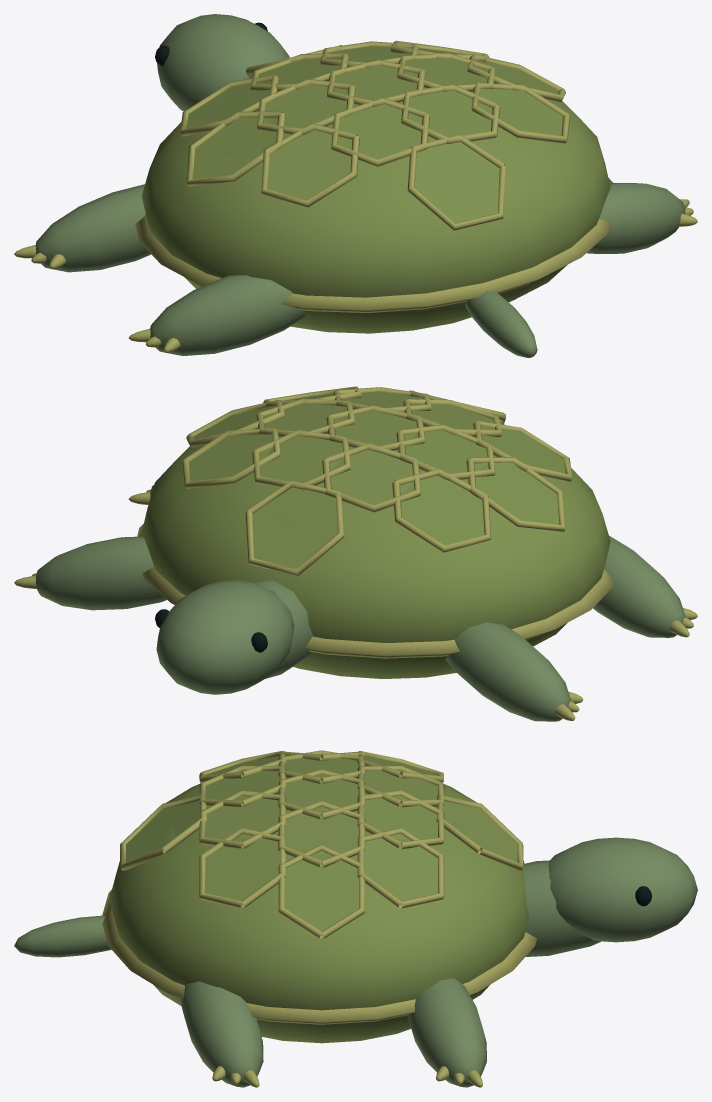
Rendered from turtle-high.glb.
The picture shows the model from 3 angles, top to bottom: view 1: azimuth 30°, elevation 25°; view 2: azimuth 150°, elevation 25°; view 3: azimuth 270°, elevation 25°; orthographic projection. The views are drawn at different scales.
Visible parts, largest first — view 1: TURTLE; view 2: TURTLE; view 3: TURTLE.
Boxes of the visible parts, <box> form: TURTLE: <box>14,14,697,357</box>; TURTLE: <box>14,386,697,721</box>; TURTLE: <box>14,750,697,1087</box>.
Size of the model in its own units: 1.16 by 0.4335 by 1.25.
